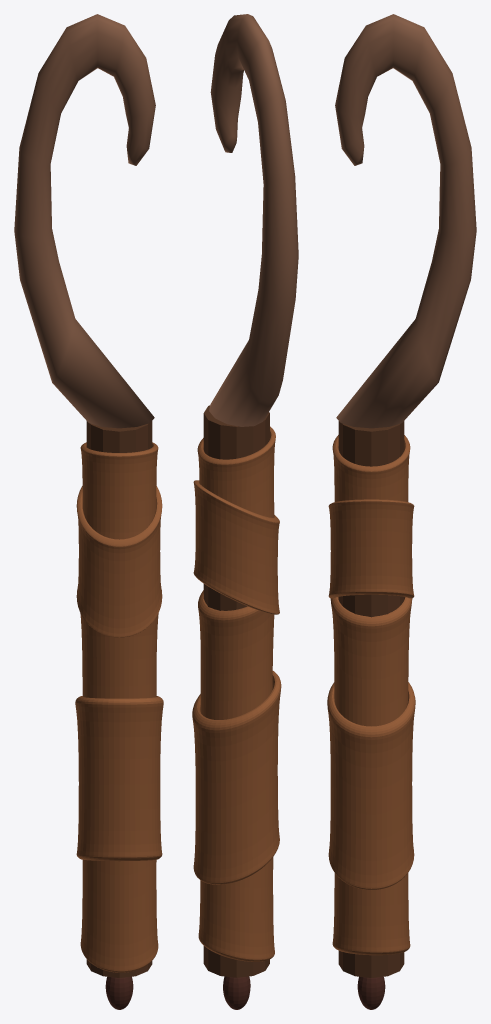
File: Wand 386.glb
3 renders of one model, left to right at view 1: azimuth 90°, elevation 25°; view 2: azimuth 210°, elevation 25°; view 3: azimuth 270°, elevation 25°, orthographic.
Parts seen in each view (by area): view 1: GeneratedWand; view 2: GeneratedWand; view 3: GeneratedWand.
Part boxes in pixels (x1,y1,x2,y2): GeneratedWand: (14, 14, 163, 1009); GeneratedWand: (192, 14, 298, 1009); GeneratedWand: (327, 14, 476, 1009).
Size of the model in its own units: 0.0408 by 0.5071 by 0.069.
